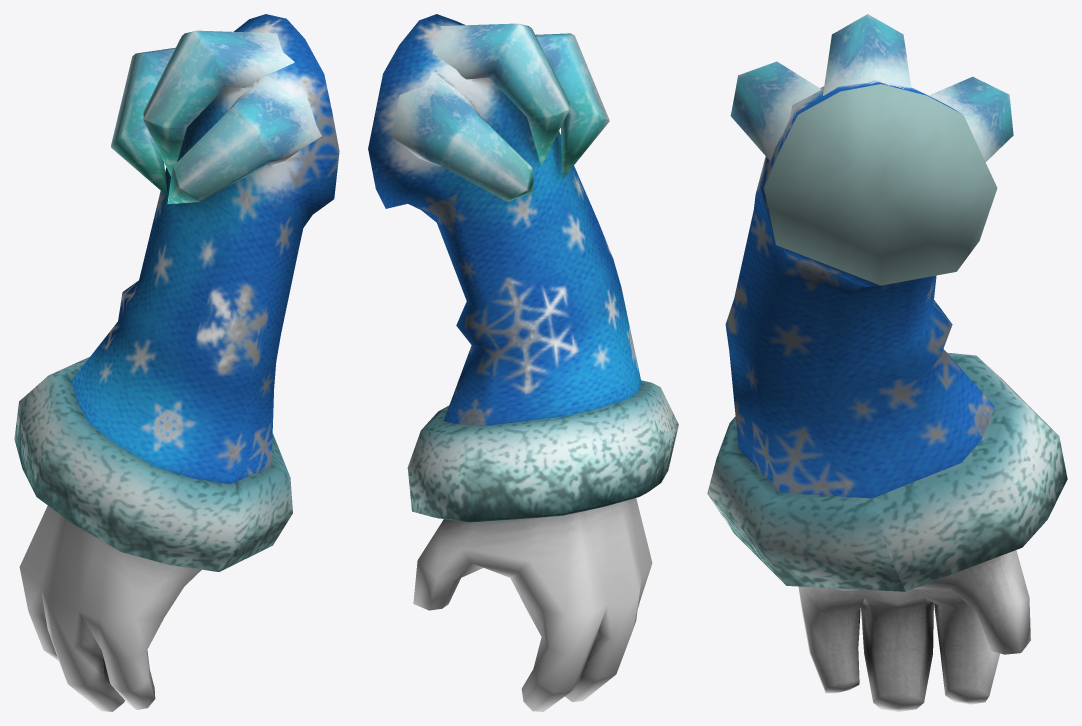
The picture shows the model from 3 angles, left to right: view 1: azimuth 30°, elevation 25°; view 2: azimuth 150°, elevation 25°; view 3: azimuth 270°, elevation 25°; orthographic projection. The views are drawn at different scales.
Visible parts, largest first — view 1: Mesh; view 2: Mesh; view 3: Mesh.
Boxes of the visible parts, x1,y1,x2,y2 form: Mesh: [14, 14, 339, 711]; Mesh: [368, 14, 678, 711]; Mesh: [707, 14, 1067, 711].
Size of the model in its own units: 0.9425 by 2.45 by 1.08.
